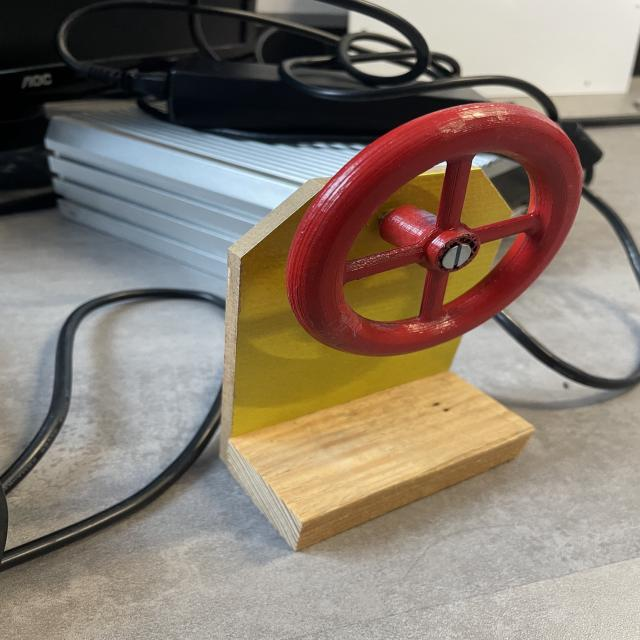Wheel Handle Valve Threaded: (271, 94, 598, 353)
